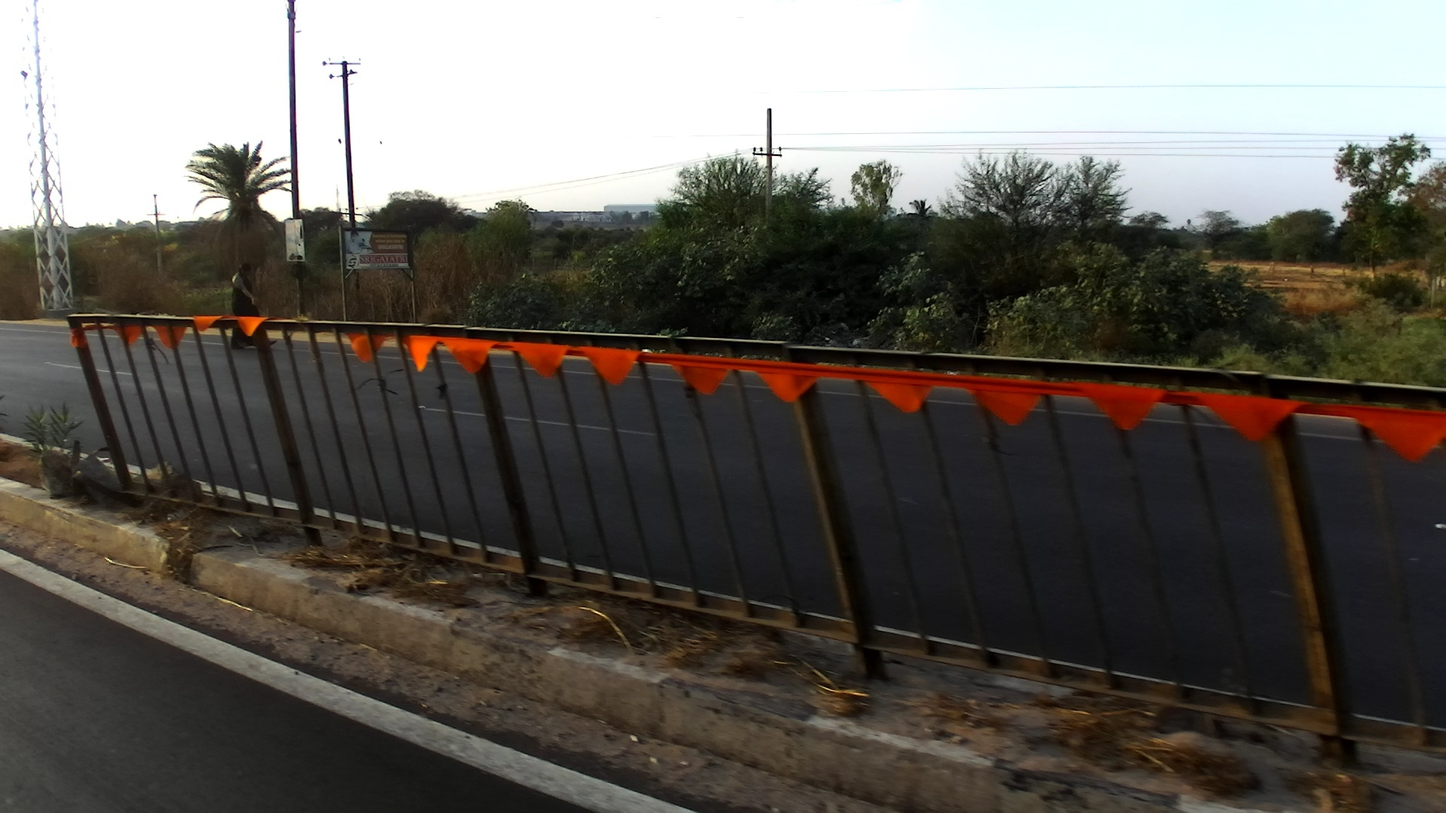person: (221, 265, 279, 349)
